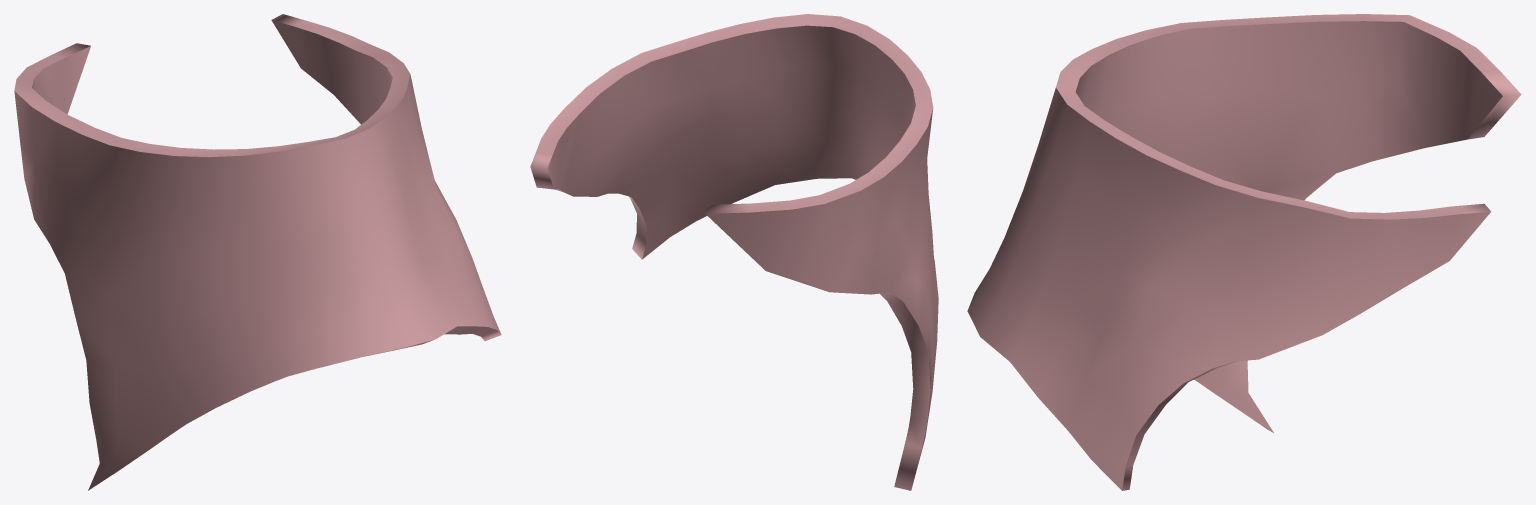
3 views of the same model, side by side, from view 1: azimuth 30°, elevation 25°; view 2: azimuth 150°, elevation 25°; view 3: azimuth 270°, elevation 25° (orthographic). The views are drawn at different scales.
Visible parts, largest first — view 1: ZA_07f79aa3756e09fe; view 2: ZA_07f79aa3756e09fe; view 3: ZA_07f79aa3756e09fe.
Boxes of the visible parts, x1,y1,x2,y2 form: ZA_07f79aa3756e09fe: (14, 14, 501, 490); ZA_07f79aa3756e09fe: (530, 14, 938, 490); ZA_07f79aa3756e09fe: (967, 14, 1521, 490).
Bounding box in the file's own units: 0.0701 × 0.0699 × 0.0809.
